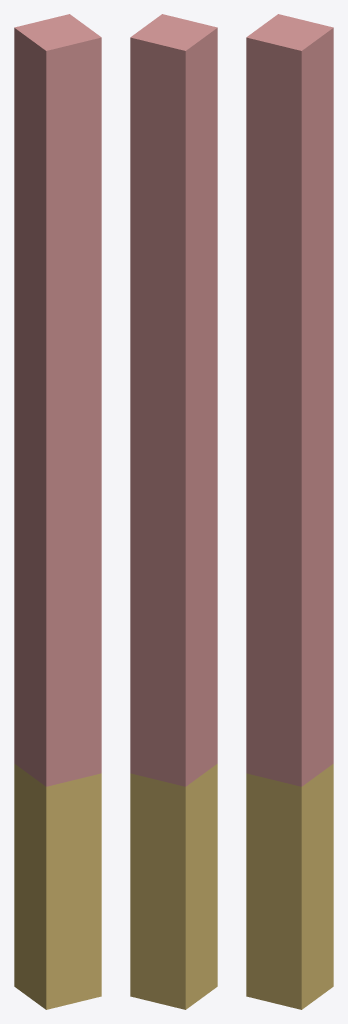
Rendered from column2.fbx.
The picture shows the model from 3 angles, left to right: view 1: azimuth 30°, elevation 25°; view 2: azimuth 150°, elevation 25°; view 3: azimuth 330°, elevation 25°; orthographic projection.
Visible parts, largest first — view 1: column2; view 2: column2; view 3: column2.
Part boxes in pixels (bbox=[...]): column2: bbox=[14, 14, 101, 1009]; column2: bbox=[130, 14, 217, 1009]; column2: bbox=[246, 14, 333, 1009].
Size of the model in its own units: 16.89 by 279 by 16.89.
